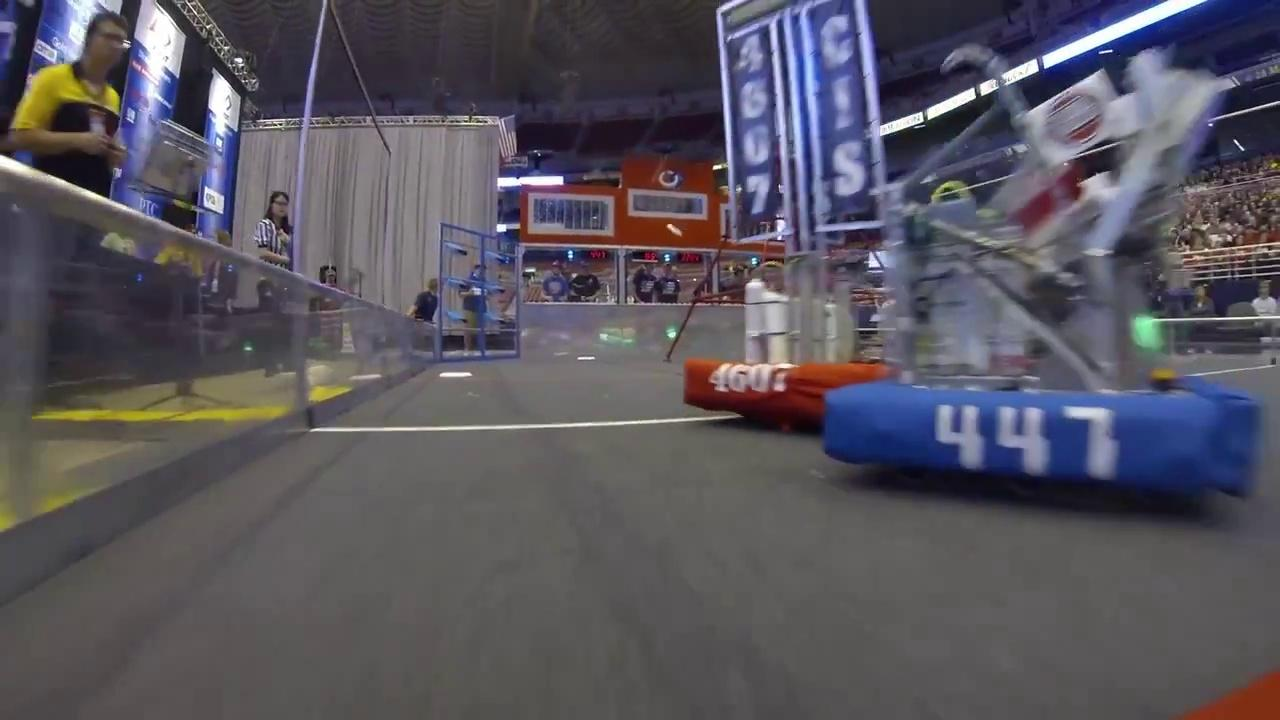robot: (819, 32, 1271, 514), (678, 0, 970, 430)
